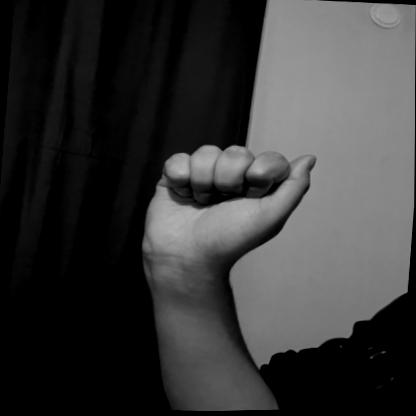A: (134, 135, 323, 276)
